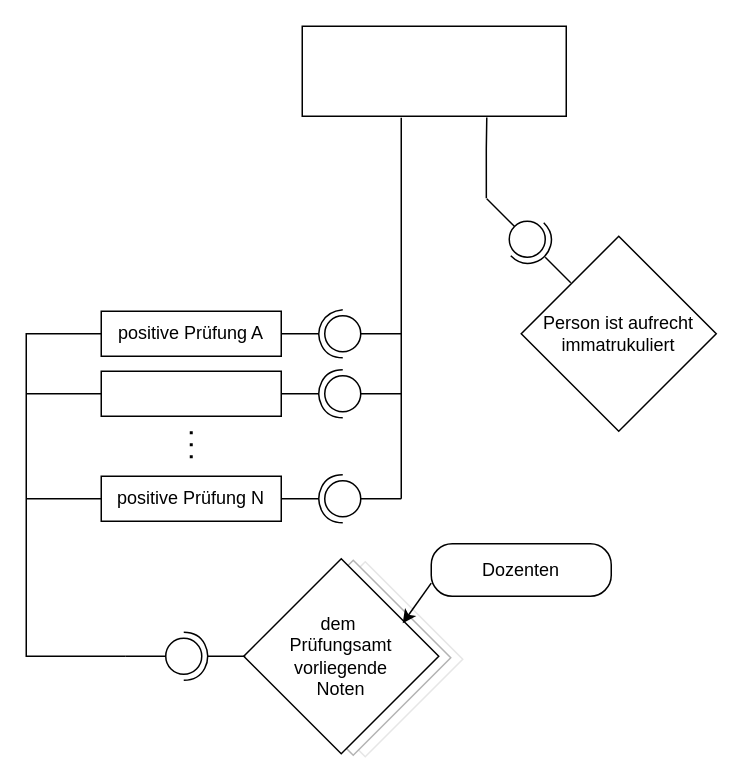
The diagram is 743 pixels wide and 783 high, and some of its shapes have lost their labels. Here are the shapes that lost their labels. From the top down, the centre of each, then its label:
At point 433,70: "Zeugnis über Hochschulabschluss".
At point 190,393: "positive Prüfung B".
